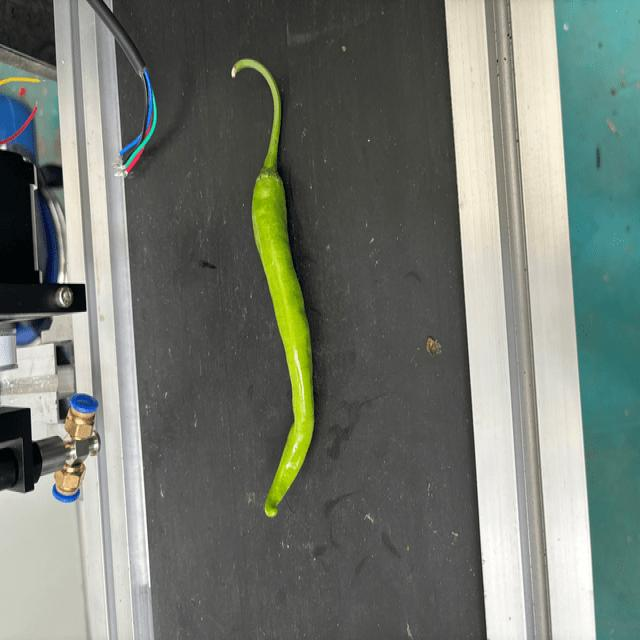chili: (250, 165, 316, 520)
